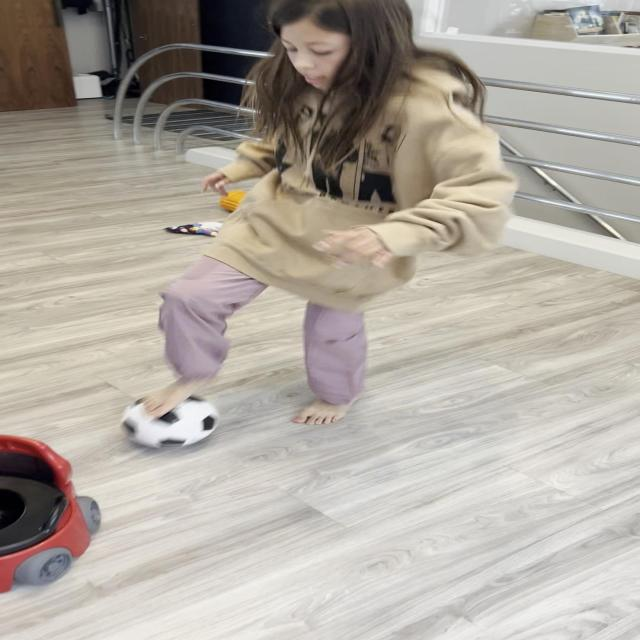Soccer Ball: (120, 393, 218, 450)
